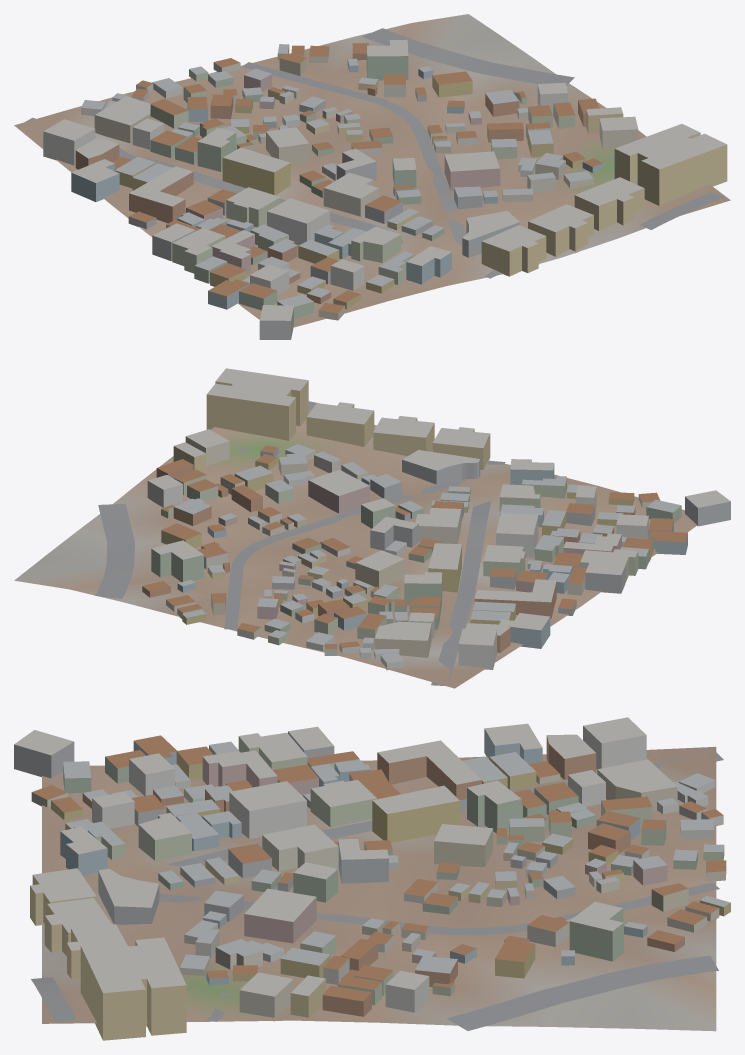
The picture shows the model from 3 angles, top to bottom: view 1: azimuth 30°, elevation 25°; view 2: azimuth 150°, elevation 25°; view 3: azimuth 270°, elevation 25°; orthographic projection. The views are drawn at different scales.
Visible parts, largest first — view 1: Lo; view 2: Lo; view 3: Lo.
Part boxes in pixels (bbox=[...]): Lo: bbox=[14, 14, 730, 339]; Lo: bbox=[14, 368, 730, 688]; Lo: bbox=[14, 717, 730, 1040].
Bounding box in the file's own units: 280 × 29.78 × 272.
